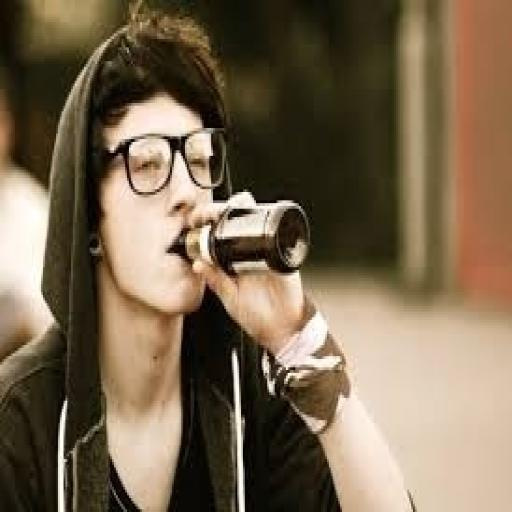drinking: (166, 189, 310, 278)
